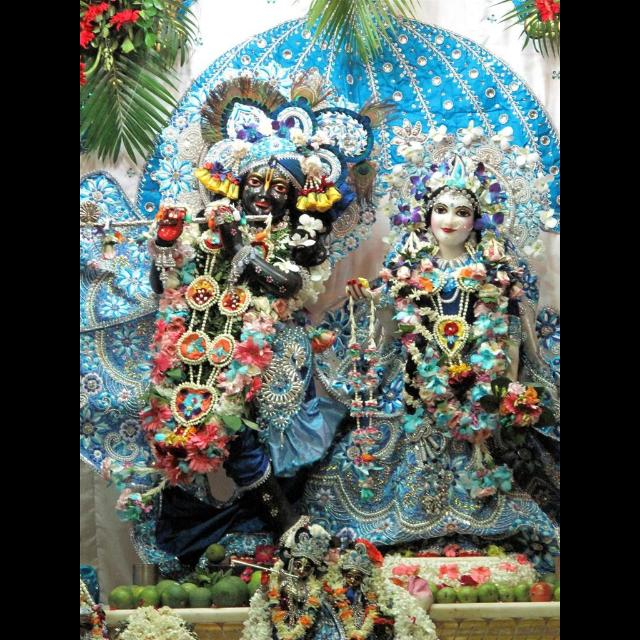Flower: (80, 64, 560, 560), (102, 124, 334, 518), (376, 166, 514, 494), (242, 556, 438, 640), (83, 605, 193, 639), (112, 7, 140, 29), (532, 1, 560, 23), (461, 565, 487, 585), (80, 22, 98, 46), (80, 59, 96, 82), (438, 562, 458, 580), (88, 1, 106, 19)
